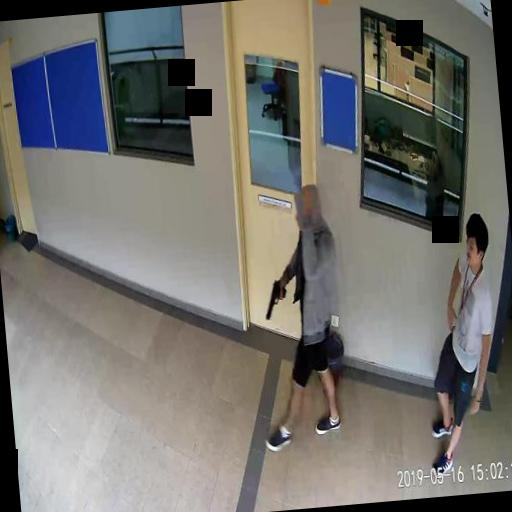Handgun: (262, 278, 287, 318)
